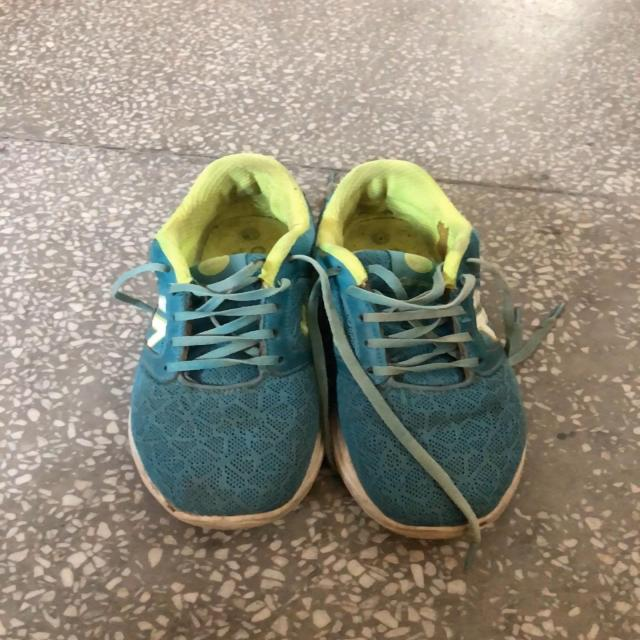shoe: (114, 160, 322, 519)
